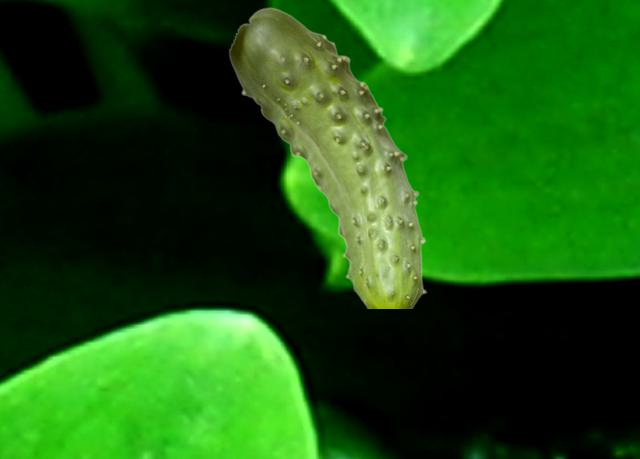cucumber: (228, 7, 426, 307)
